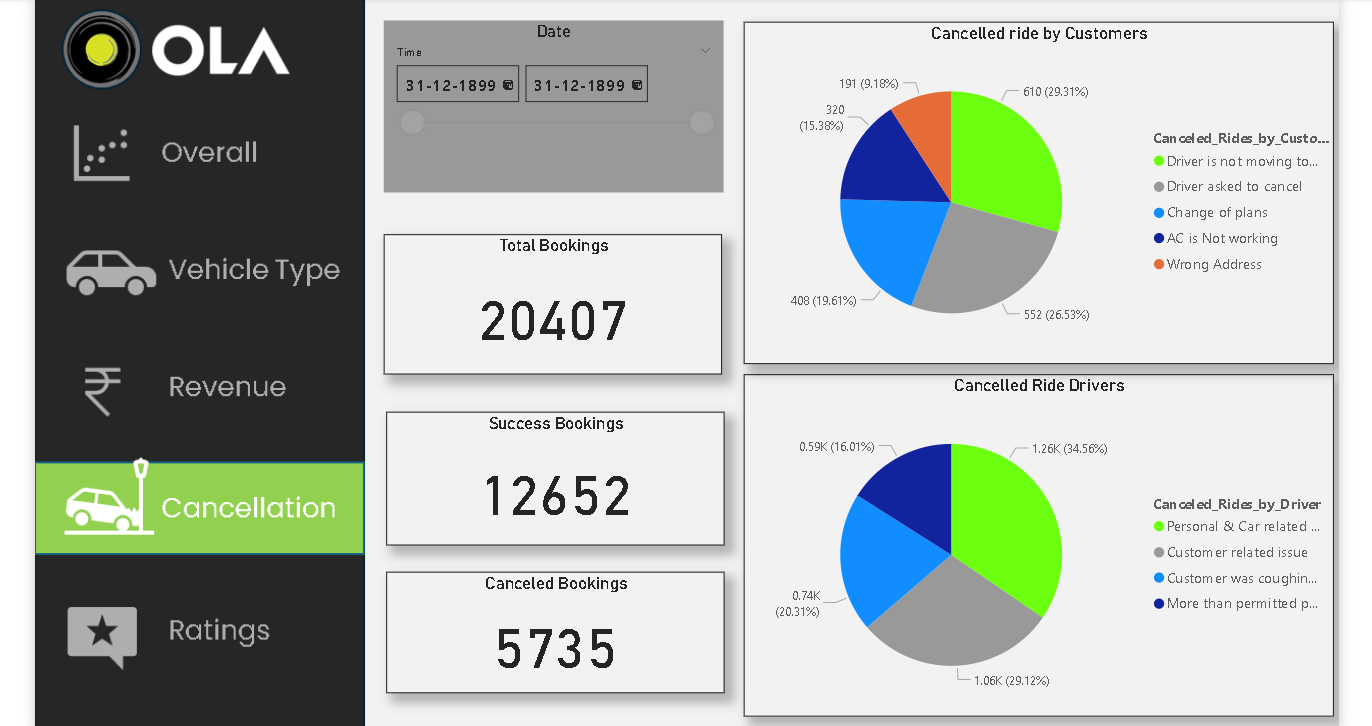

What the dashboard file says about the page in this screenshot:
{"tool":"powerbi","page":{"name":"Cancellation","canvas":[1280,720],"ordinal":3},"visuals":[{"type":"actionButton","box":[0,457.7,322.7,88.3],"z":0},{"type":"actionButton","box":[1.2,336.2,322.7,88.3],"z":1000},{"type":"actionButton","box":[0,574.2,322.7,88.3],"z":2000},{"type":"actionButton","box":[0,212.3,322.7,88.3],"z":3000},{"type":"actionButton","box":[0,111.7,322.7,89.6],"z":4000},{"type":"pieChart","title":"Cancelled ride by Customers","fields":{"Category":["July (2).Canceled_Rides_by_Customer"],"Y":["CountNonNull(July (2).Canceled_Rides_by_Customer)"]},"box":[695.7,23.3,579.1,336.2],"z":5000},{"type":"pieChart","title":"Cancelled Ride Drivers","fields":{"Category":["July (2).Canceled_Rides_by_Driver"],"Y":["CountNonNull(July (2).Canceled_Rides_by_Driver)"]},"box":[695.7,369.1,579.1,336.2],"z":6000},{"type":"slicer","title":"Date","fields":{"Values":["July (2).Time"]},"box":[342.7,22.6,333.7,169.1],"z":7000},{"type":"card","title":"Total Bookings","fields":{"Values":["CountNonNull(July (2).Booking_ID)"]},"box":[342.7,232.5,332.2,137.4],"z":8000},{"type":"card","title":"Success Bookings","fields":{"Values":["CountNonNull(July (2).Booking_ID)"]},"box":[344.2,406.1,332.2,131.4],"z":9000},{"type":"card","title":"Canceled Bookings","fields":{"Values":["CountNonNull(July (2).Booking_ID)"]},"box":[344.2,563.2,332.2,119.3],"z":10000}]}

Visuals, with their boxes in screenshot pixels (x1, y1, x2, y2):
actionButton: {"left": 29, "top": 464, "right": 361, "bottom": 555}
actionButton: {"left": 30, "top": 339, "right": 362, "bottom": 430}
actionButton: {"left": 29, "top": 584, "right": 361, "bottom": 675}
actionButton: {"left": 29, "top": 212, "right": 361, "bottom": 302}
actionButton: {"left": 29, "top": 108, "right": 361, "bottom": 200}
"Cancelled ride by Customers" pieChart: {"left": 745, "top": 17, "right": 1342, "bottom": 363}
"Cancelled Ride Drivers" pieChart: {"left": 745, "top": 373, "right": 1342, "bottom": 719}
"Date" slicer: {"left": 382, "top": 16, "right": 725, "bottom": 190}
"Total Bookings" card: {"left": 382, "top": 232, "right": 724, "bottom": 374}
"Success Bookings" card: {"left": 383, "top": 411, "right": 725, "bottom": 546}
"Canceled Bookings" card: {"left": 383, "top": 573, "right": 725, "bottom": 696}
